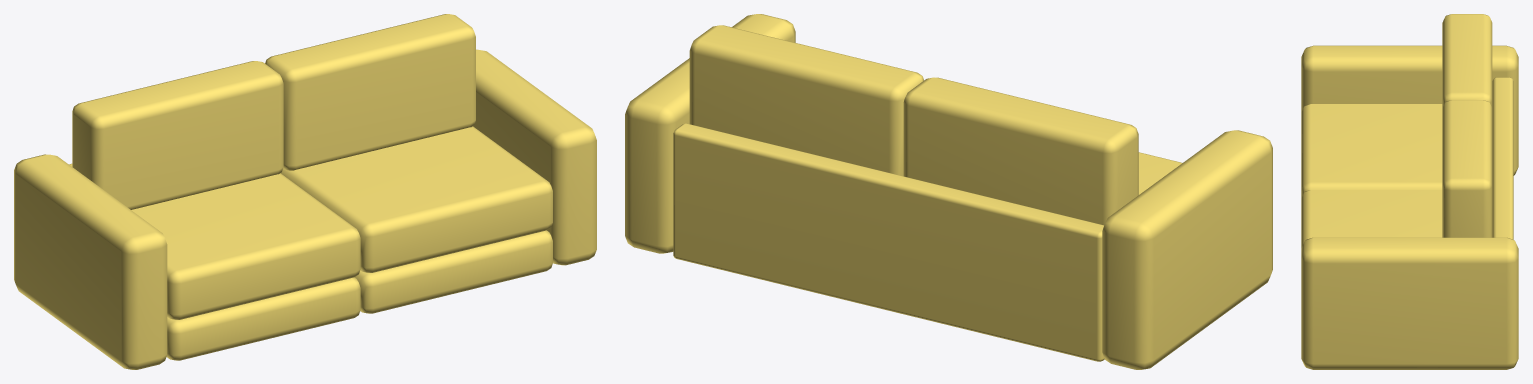
Rendered from Sofa_2.glb.
3 renders of one model, left to right at view 1: azimuth 30°, elevation 25°; view 2: azimuth 150°, elevation 25°; view 3: azimuth 270°, elevation 25°, orthographic. The views are drawn at different scales.
Visible parts, largest first — view 1: Couch_1; view 2: Couch_1; view 3: Couch_1.
Part boxes in pixels (bbox=[...]): Couch_1: bbox=[14, 14, 596, 369]; Couch_1: bbox=[625, 14, 1272, 369]; Couch_1: bbox=[1301, 14, 1518, 369].
Size of the model in its own units: 2.76 by 1.05 by 1.2.
1 material, 1 textured.
